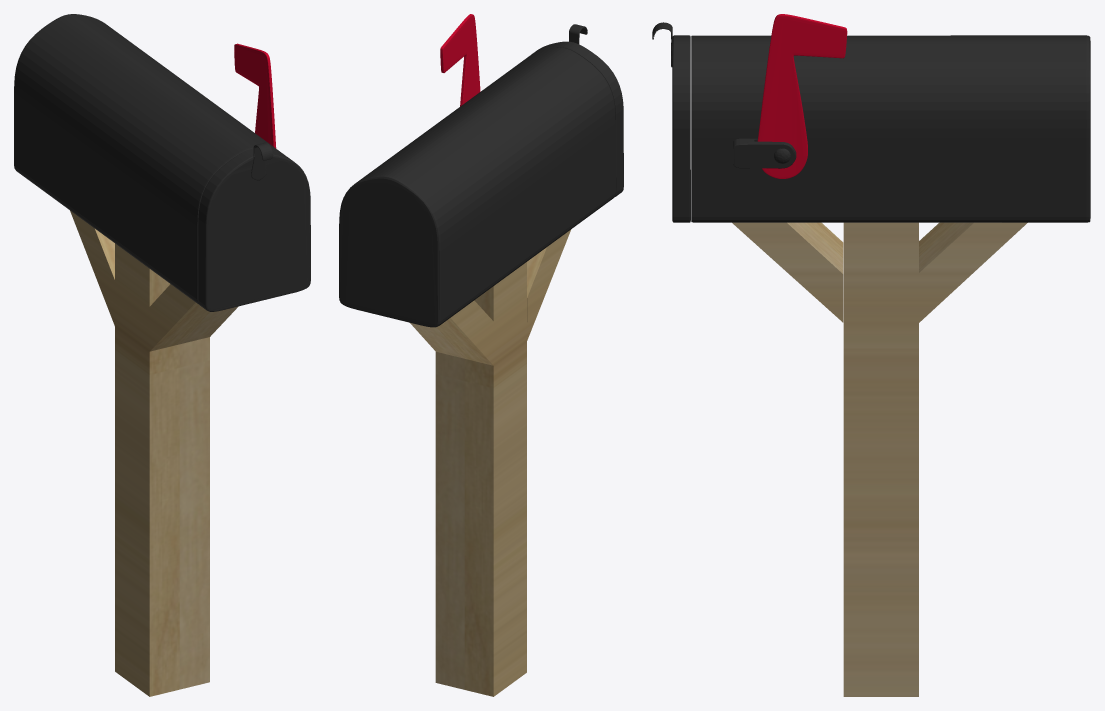
The model's file is sweethome3d-blendswap-cc-0-mailbox-24.glb.
3 renders of one model, left to right at view 1: azimuth 30°, elevation 25°; view 2: azimuth 150°, elevation 25°; view 3: azimuth 270°, elevation 25°, orthographic. The views are drawn at different scales.
Visible parts, largest first — view 1: 3_3, Mesh_9_9, 4_4, 7_7, 5_5, 8_8, 2_2; view 2: 3_3, Mesh_9_9, 8_8, 5_5, 7_7, 4_4; view 3: 3_3, Mesh_9_9, 5_5, 7_7, 8_8, 4_4, 1_1.
Boxes of the visible parts, box(x1,y1,x2,y2) form: 3_3: box(14, 14, 285, 304); Mesh_9_9: box(115, 243, 209, 696); 4_4: box(198, 149, 310, 311); 7_7: box(149, 284, 238, 351); 5_5: box(234, 43, 276, 148); 8_8: box(70, 210, 114, 325); 2_2: box(251, 142, 272, 180); 3_3: box(339, 47, 615, 327); Mesh_9_9: box(435, 262, 526, 696); 8_8: box(410, 300, 493, 365); 5_5: box(440, 14, 480, 106); 7_7: box(527, 229, 571, 340); 4_4: box(531, 41, 623, 196); 3_3: box(691, 35, 1090, 222); Mesh_9_9: box(843, 222, 918, 696); 5_5: box(757, 14, 847, 178); 7_7: box(732, 222, 843, 322); 8_8: box(919, 222, 1027, 322); 4_4: box(672, 35, 690, 222); 1_1: box(733, 138, 796, 168).
Bounding box in the file's own units: 15.9 × 81.55 × 46.48.
Materials: 3 (1 with a texture image).
